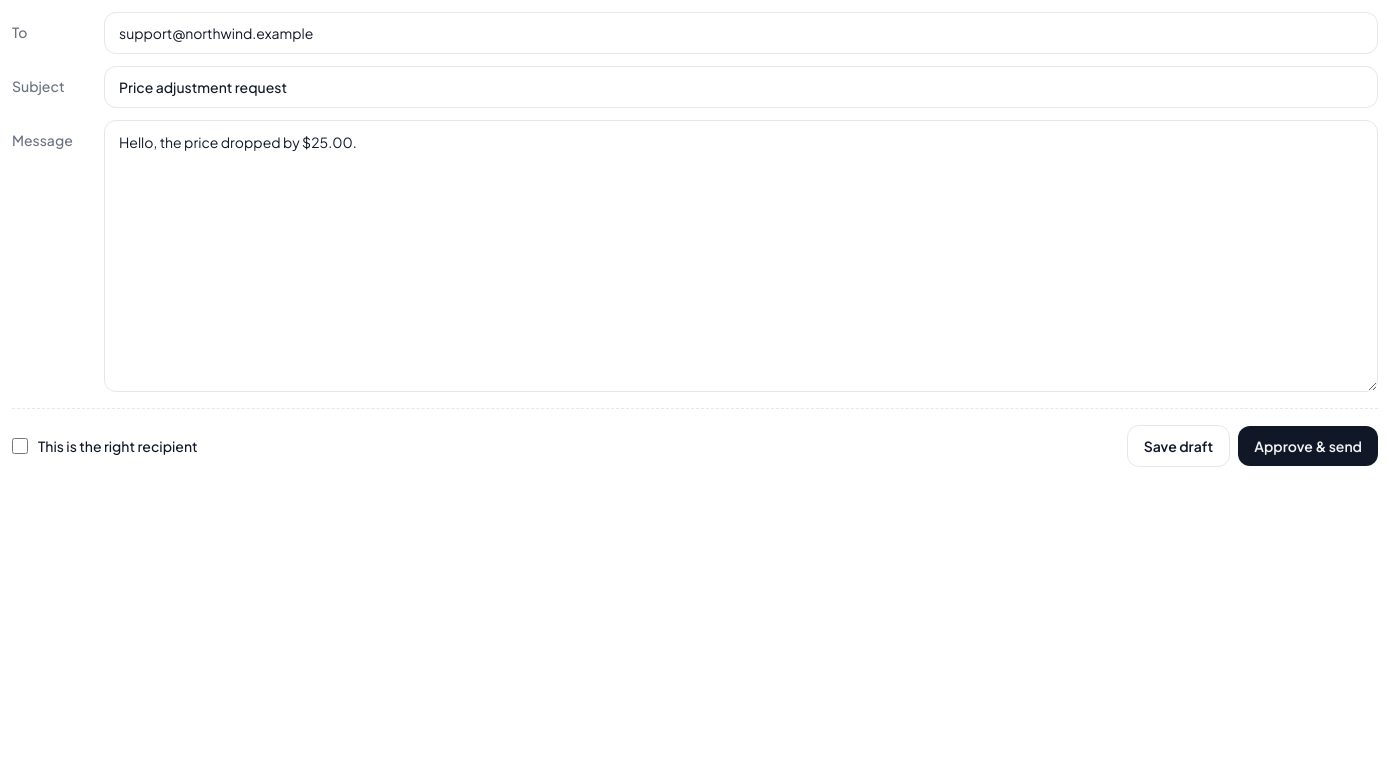
Scenario: Composer: prepareSend before every send › binding_changed asks the user to review the claim again and sends nothing
Click the button "Approve & send".
click(1308, 446)  # box [1238, 426, 1378, 466]
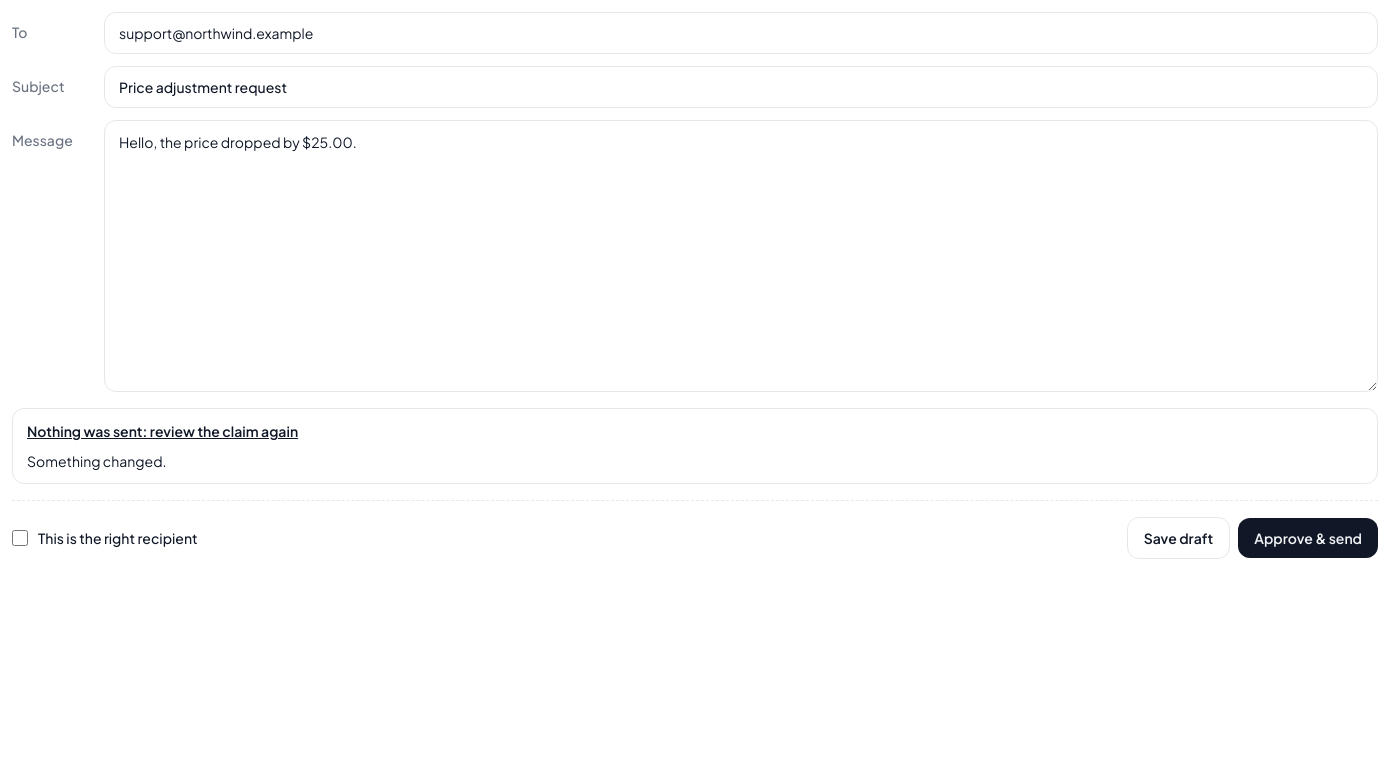
Expected: the element "Nothing was sent: review the claim again" shows "Something changed.", [27, 452, 166, 470]
